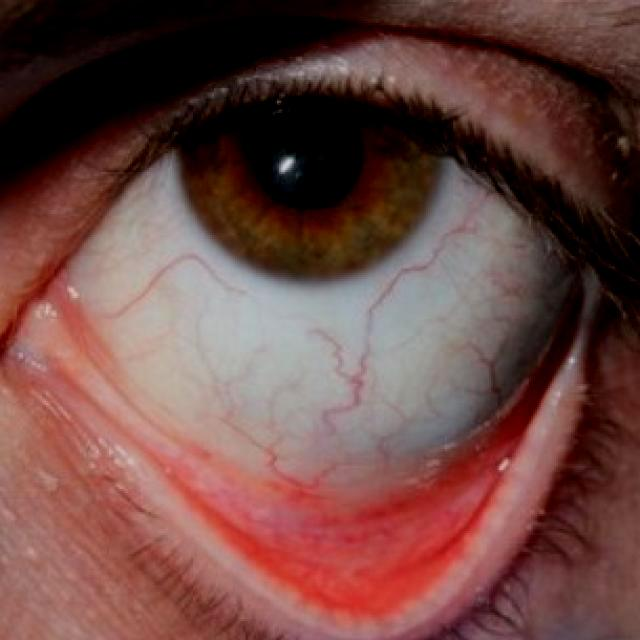conjunctiva_pallor: (75, 339, 568, 621)
